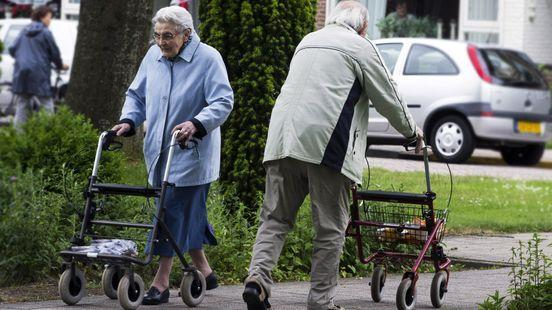walking_frame: (243, 0, 454, 310), (58, 6, 234, 310)
